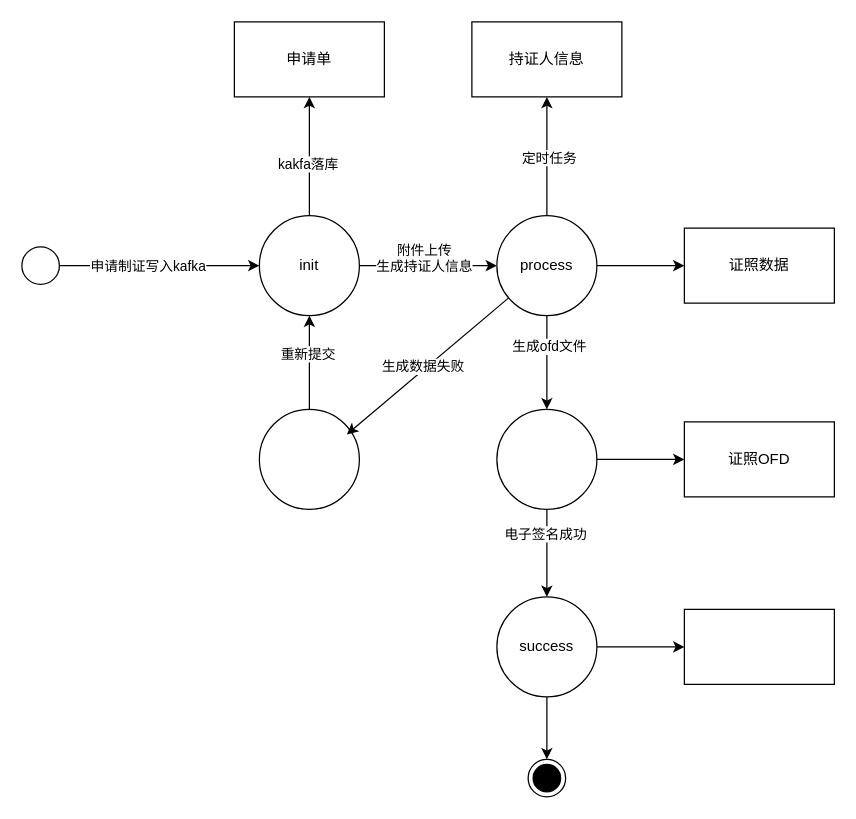
This 856x819 diagram has some shape labels left out. Here are the shapes that lost their labels. From the top down, the centre of each, then its label:
the point at 308,458: 失败
the point at 546,458: toSign
the point at 758,646: 电子签名证照OFD
